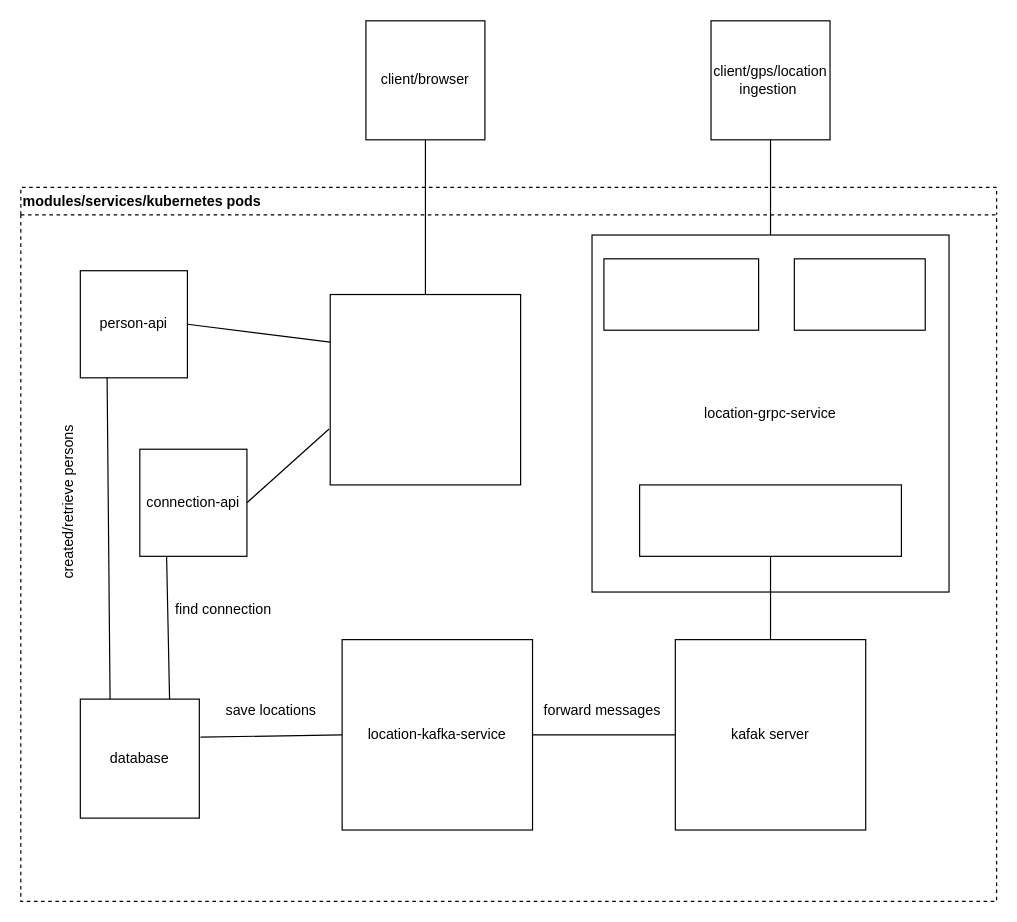
The diagram is 1017 pixels wide and 922 high, and some of its shapes have lost their labels. The shapes that lost their labels are listed below. From the top down, each one's box as (x1, y1, x2, y2) in pixels, then its label:
(603, 258, 759, 330): location_pb2_grpc
(793, 258, 925, 330): location_pb2
(329, 293, 521, 485): frontend/udaconnect-app
(638, 484, 901, 556): forward-to-kafka
